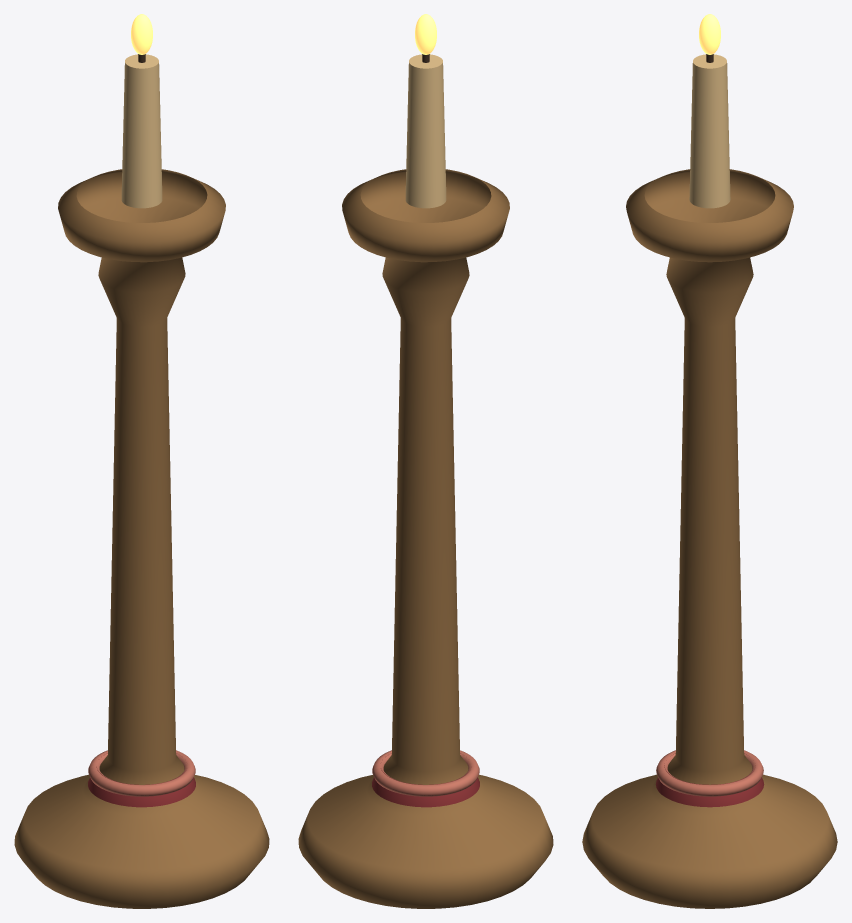
The model's file is scetis-candela.glb.
3 views of the same model, side by side, from view 1: azimuth 30°, elevation 25°; view 2: azimuth 150°, elevation 25°; view 3: azimuth 270°, elevation 25° (orthographic).
Parts seen in each view (by area): view 1: stand, cup, flame.sfesnic; view 2: stand, cup, flame.sfesnic; view 3: stand, cup, flame.sfesnic.
Boxes of the visible parts, bbox=[...] form: stand: bbox=[14, 54, 269, 908]; cup: bbox=[88, 750, 195, 807]; flame.sfesnic: bbox=[131, 14, 152, 54]; stand: bbox=[298, 54, 553, 908]; cup: bbox=[372, 750, 479, 807]; flame.sfesnic: bbox=[415, 14, 436, 54]; stand: bbox=[582, 54, 837, 908]; cup: bbox=[655, 750, 764, 807]; flame.sfesnic: bbox=[699, 14, 720, 54].
Bounding box in the file's own units: 0.82 × 3 × 0.82.
